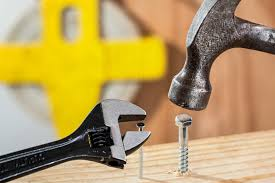Wrench: (1, 96, 155, 180)
